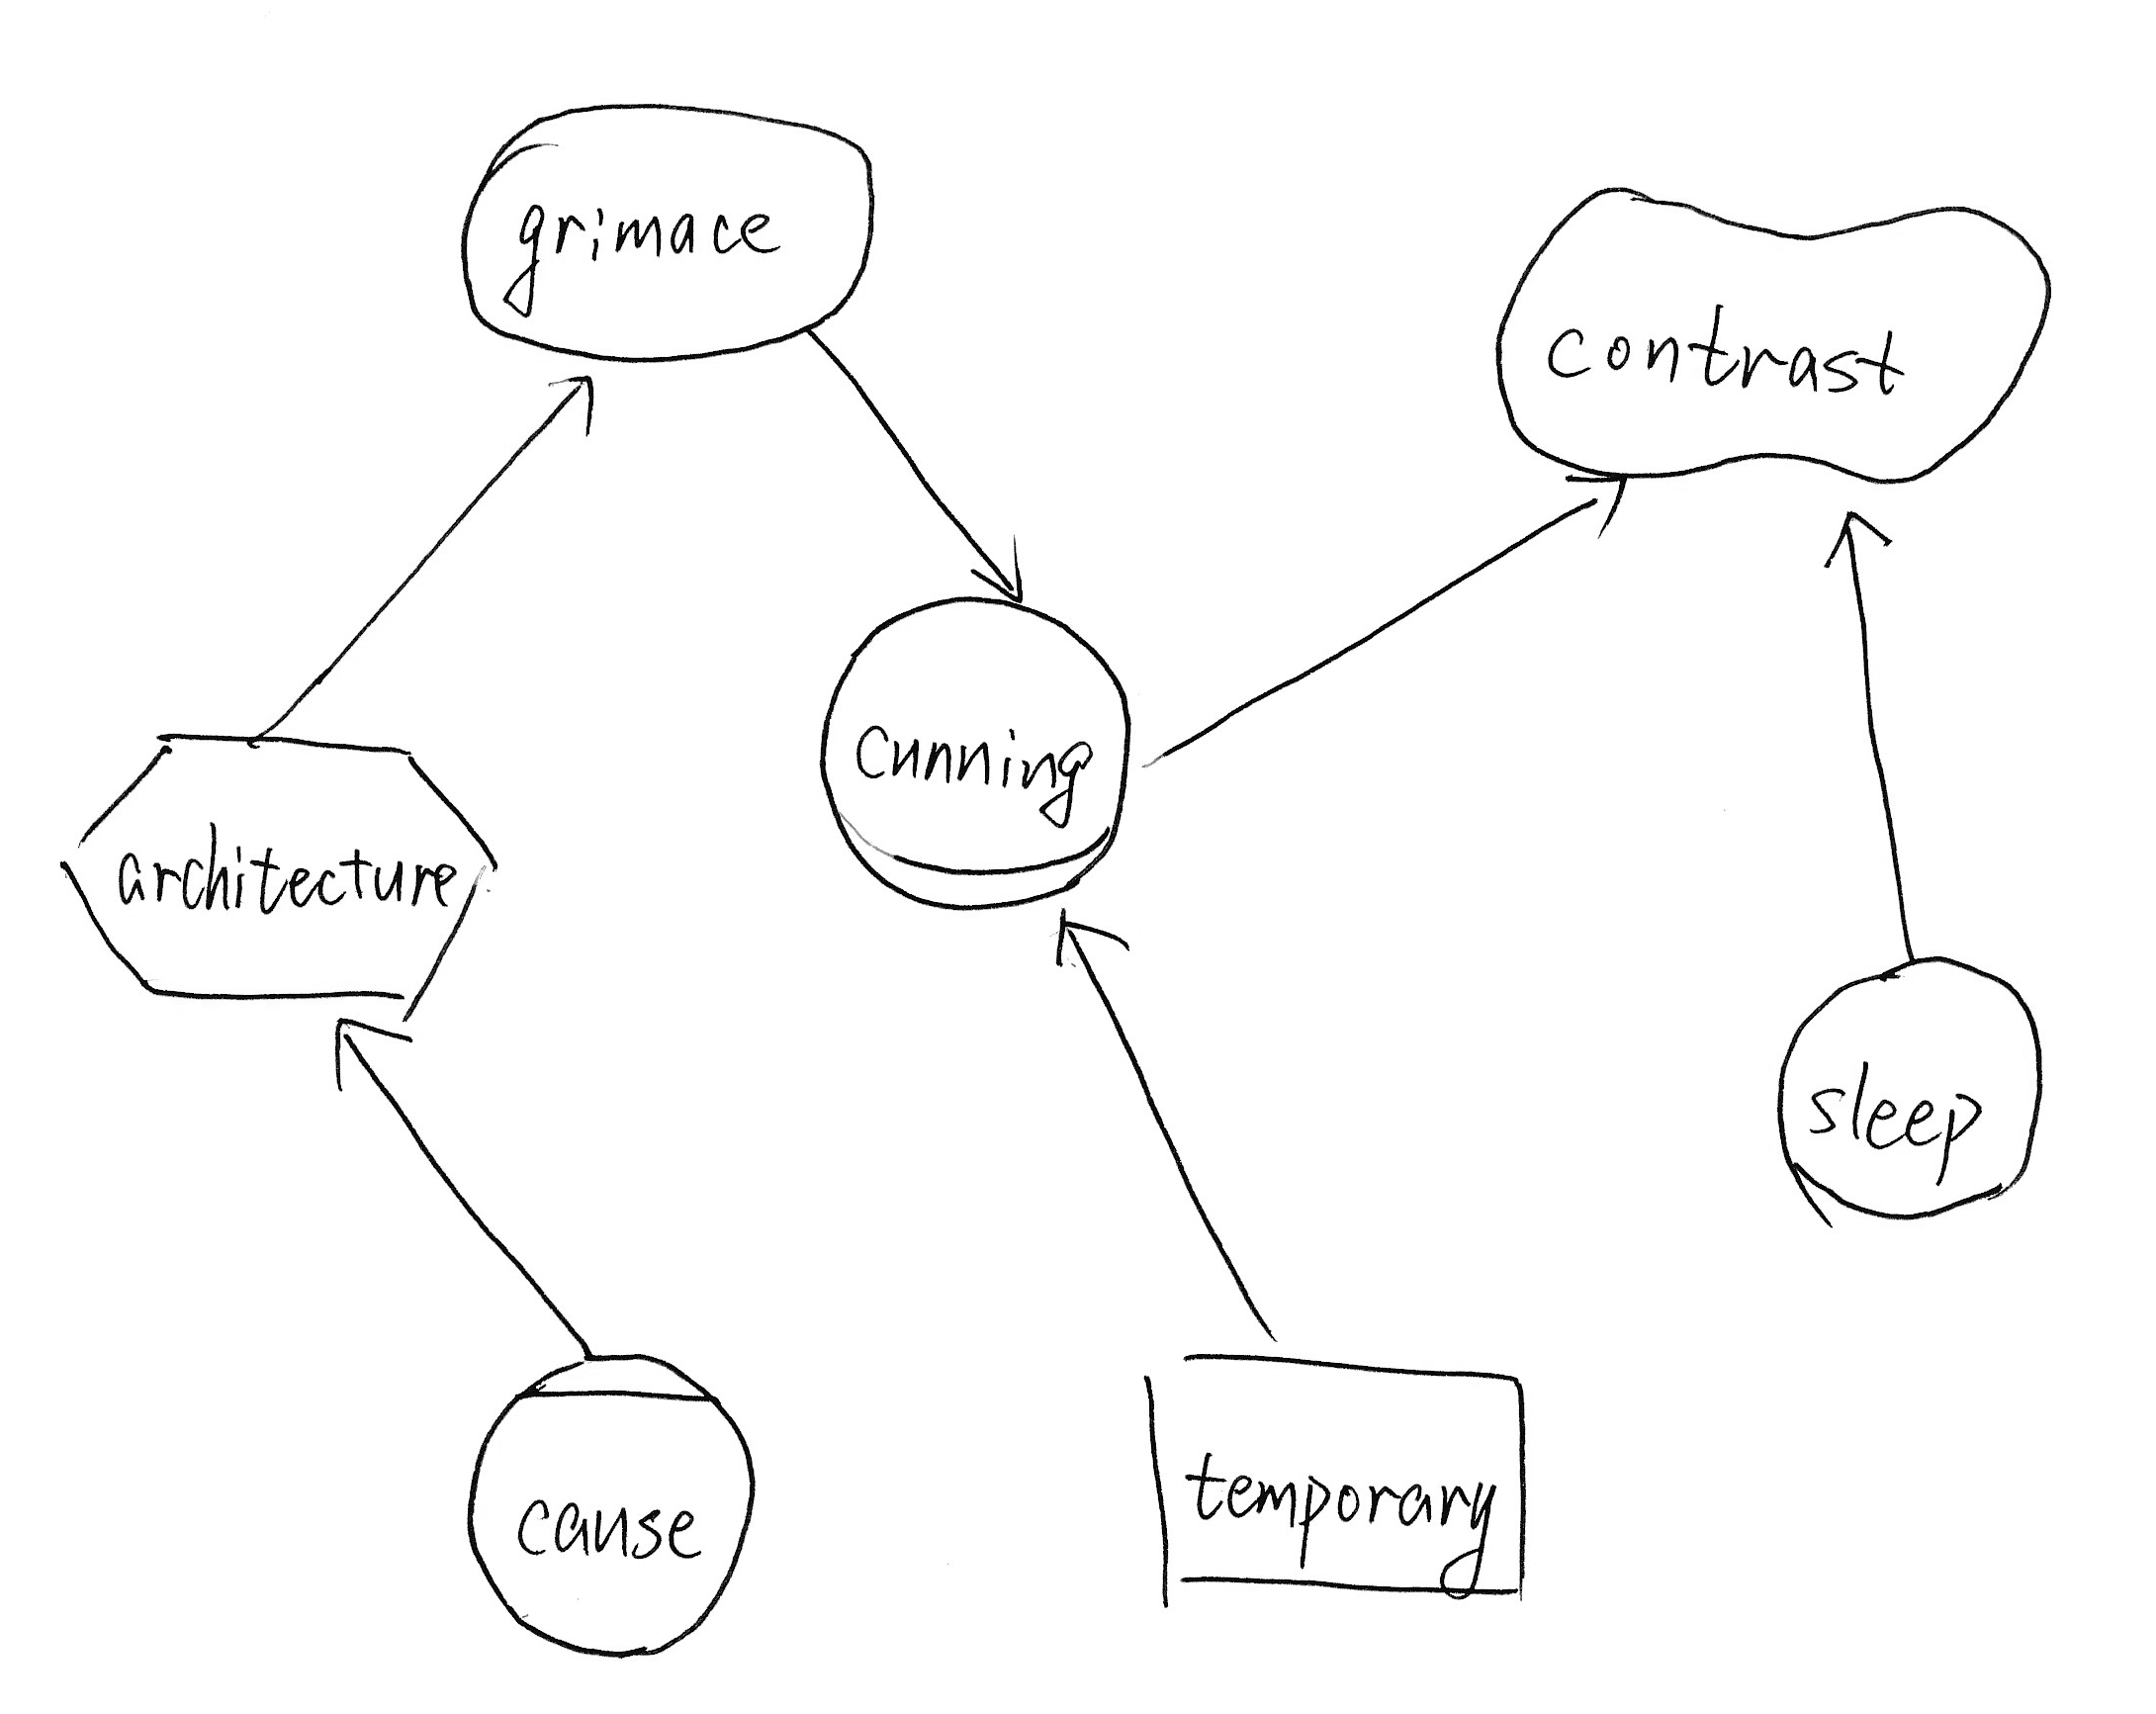actor: (1759, 937, 2056, 1248)
agent: (453, 1336, 770, 1665)
arrow: (311, 1001, 434, 1106), (1802, 485, 1900, 581), (954, 516, 1046, 608), (1041, 895, 1137, 980), (525, 361, 609, 448), (1542, 464, 1634, 536)
goal: (441, 86, 892, 376)
quality: (1477, 170, 2070, 499)
resource: (1125, 1332, 1557, 1632)
role: (807, 583, 1143, 924)
task: (44, 718, 513, 1031)
